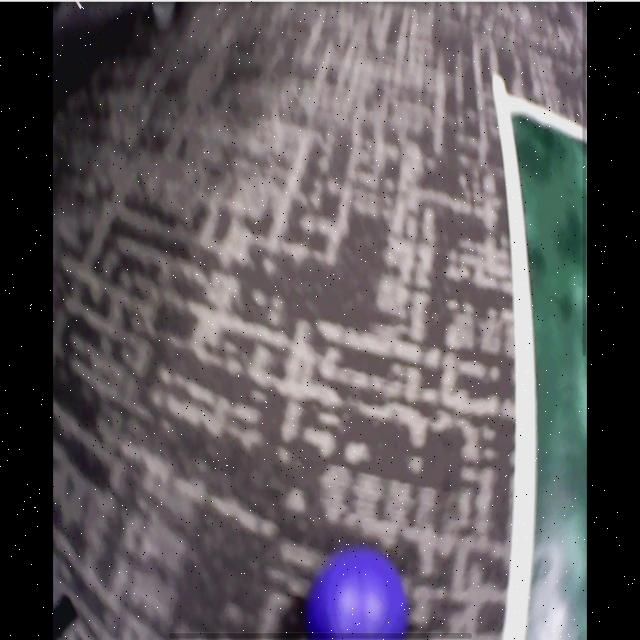ball: (309, 549, 406, 631)
